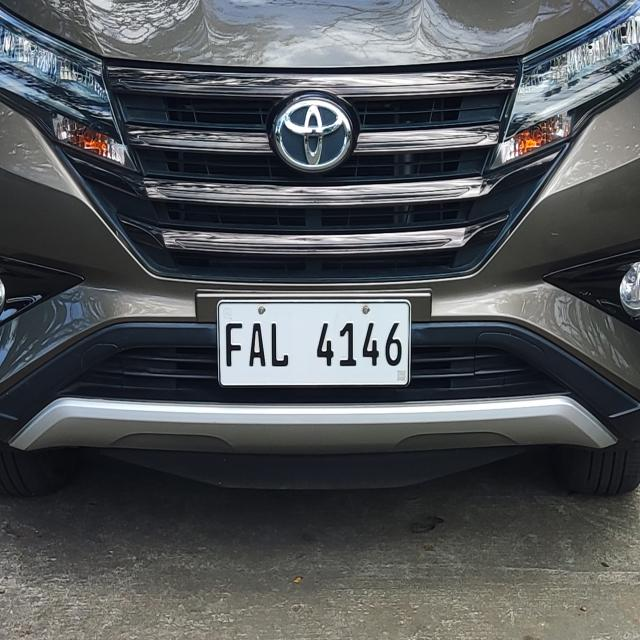plate: (215, 297, 413, 390)
